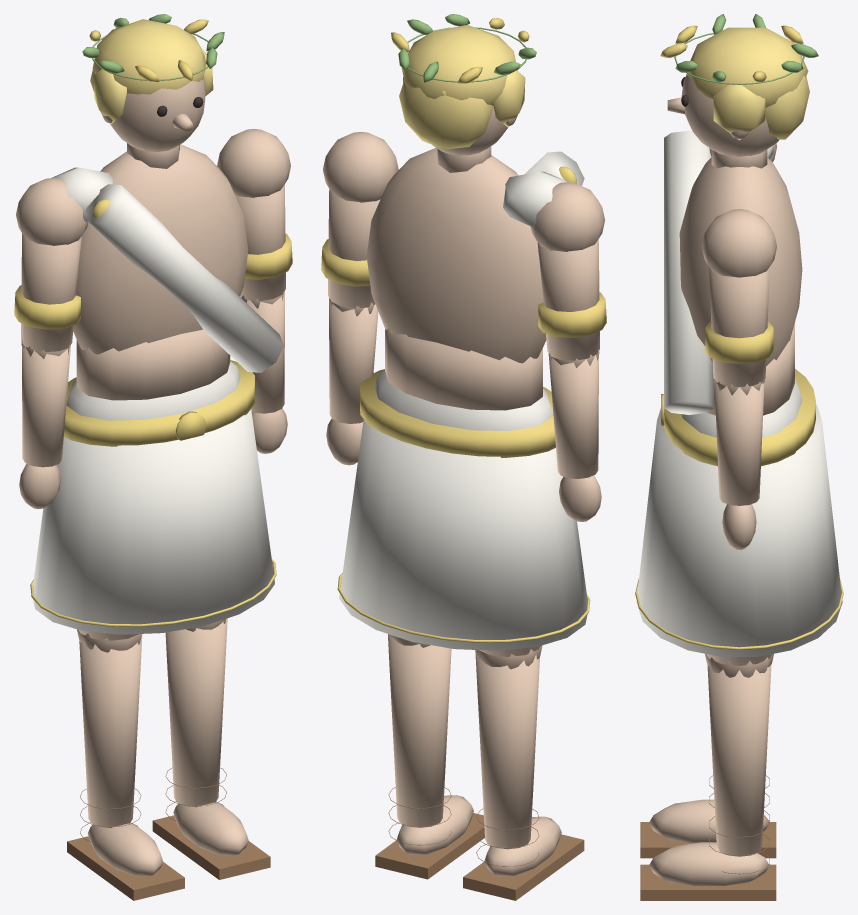
File: apolo.glb
The picture shows the model from 3 angles, left to right: view 1: azimuth 30°, elevation 25°; view 2: azimuth 150°, elevation 25°; view 3: azimuth 270°, elevation 25°; orthographic projection. The views are drawn at different scales.
Visible parts, largest first — view 1: pelvis, torso, shin_R, shin_L, head, arm_R, arm_L, forearm_R, forearm_L; view 2: pelvis, torso, shin_R, shin_L, head, arm_R, arm_L, forearm_R, forearm_L; view 3: pelvis, torso, shin_L, head, arm_L, forearm_L, shin_R, leg_L.
Boxes of the visible parts, <box> form: pelvis: <box>30,360,276,634</box>; torso: <box>52,144,283,400</box>; shin_R: <box>67,629,184,900</box>; shin_L: <box>152,618,270,879</box>; head: <box>82,14,224,168</box>; arm_R: <box>14,178,88,351</box>; arm_L: <box>217,129,292,300</box>; forearm_R: <box>19,340,70,509</box>; forearm_L: <box>241,291,287,453</box>; pelvis: <box>337,369,590,650</box>; torso: <box>366,148,584,410</box>; shin_R: <box>463,645,584,900</box>; shin_L: <box>375,634,484,879</box>; head: <box>391,14,536,172</box>; arm_R: <box>530,182,606,360</box>; arm_L: <box>321,132,398,308</box>; forearm_R: <box>548,349,601,521</box>; forearm_L: <box>326,298,378,465</box>; pelvis: <box>635,369,843,656</box>; torso: <box>664,130,802,415</box>; shin_L: <box>640,653,776,900</box>; head: <box>660,14,818,168</box>; arm_L: <box>701,209,777,387</box>; forearm_L: <box>713,378,765,549</box>; shin_R: <box>640,775,776,858</box>; leg_L: <box>706,654,772,665</box>.
Bounding box in the file's own units: 0.6298 × 1.83 × 0.4149.
